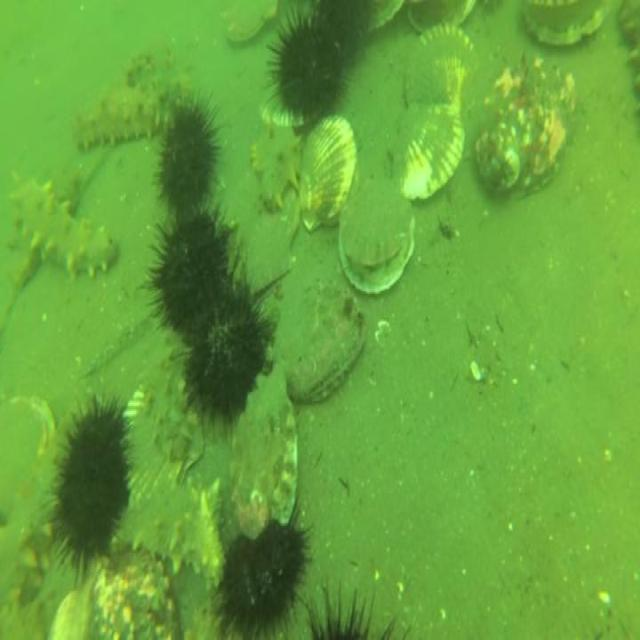echinus: (48, 395, 128, 574), (184, 275, 271, 422), (218, 518, 311, 637), (151, 212, 232, 343), (156, 91, 220, 222), (274, 15, 338, 130), (296, 589, 403, 640), (316, 0, 380, 60)
holothurian: (4, 164, 122, 284), (107, 479, 225, 588), (0, 515, 57, 640), (70, 79, 164, 153), (248, 131, 301, 210), (613, 0, 639, 120)
scallop: (121, 360, 203, 506), (338, 177, 418, 300), (388, 104, 466, 202), (298, 112, 356, 236), (401, 21, 477, 112), (0, 390, 57, 468), (515, 0, 607, 47), (404, 0, 480, 40), (220, 0, 280, 46), (257, 81, 303, 134), (368, 0, 407, 33)
